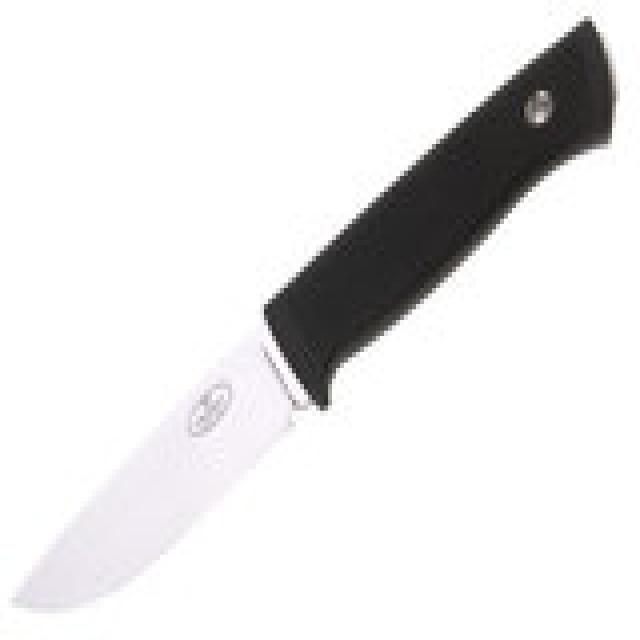Knife: (8, 19, 620, 624)
